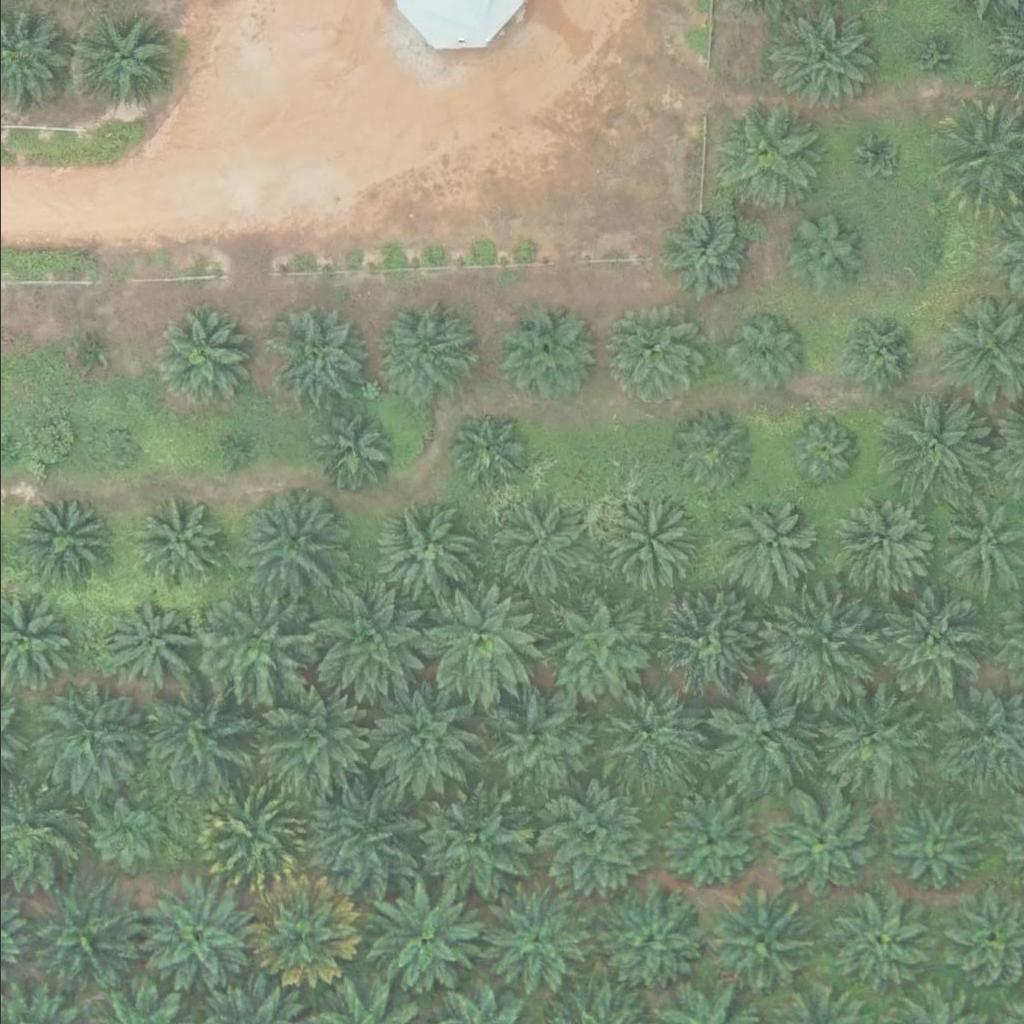Kelapa_Sawit: (886, 390, 1000, 503), (235, 485, 349, 598), (765, 589, 878, 702), (648, 590, 761, 703), (817, 686, 930, 799), (703, 683, 816, 796), (592, 677, 705, 790), (477, 685, 590, 798), (537, 785, 650, 898), (423, 788, 536, 901), (305, 787, 418, 900), (244, 876, 357, 989), (195, 778, 308, 891), (143, 878, 256, 991), (25, 875, 138, 988), (871, 587, 985, 699), (710, 100, 824, 212), (307, 585, 421, 697), (137, 679, 251, 791), (34, 683, 148, 795), (201, 588, 315, 700), (761, 1, 874, 113), (539, 585, 652, 697), (418, 584, 531, 696), (366, 687, 479, 799), (763, 790, 876, 902), (824, 885, 937, 997), (697, 892, 810, 1004), (591, 885, 704, 997), (472, 885, 585, 997), (366, 882, 479, 994), (251, 676, 364, 788), (884, 794, 985, 894), (376, 298, 477, 398), (827, 490, 928, 590), (715, 496, 816, 596), (597, 491, 698, 591), (658, 796, 759, 896), (265, 306, 366, 406), (157, 304, 258, 404), (70, 6, 171, 106), (603, 308, 703, 408), (496, 303, 596, 403), (484, 501, 584, 601), (371, 503, 471, 603), (663, 217, 751, 305), (778, 211, 866, 298), (828, 310, 916, 397), (719, 307, 807, 394), (664, 409, 752, 496), (104, 601, 192, 688), (137, 501, 225, 588), (15, 494, 103, 581), (308, 407, 396, 494), (448, 414, 524, 489), (88, 796, 164, 871), (785, 412, 860, 487), (907, 35, 958, 85), (851, 129, 902, 179), (915, 226, 965, 276), (95, 432, 133, 470), (223, 445, 248, 470), (73, 341, 98, 366)
